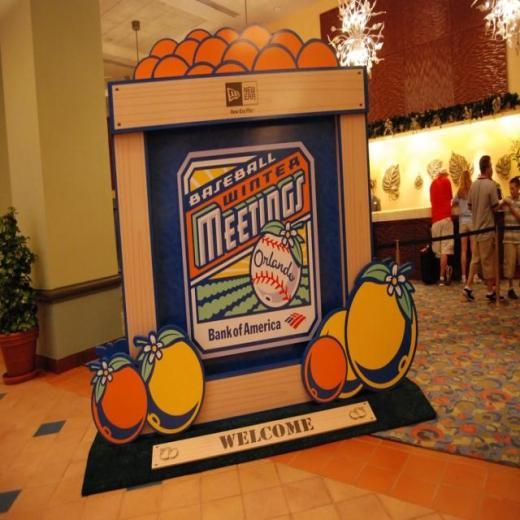Grape: (348, 271, 421, 384), (147, 333, 206, 431), (90, 357, 147, 446), (300, 331, 348, 398), (323, 312, 365, 387)
